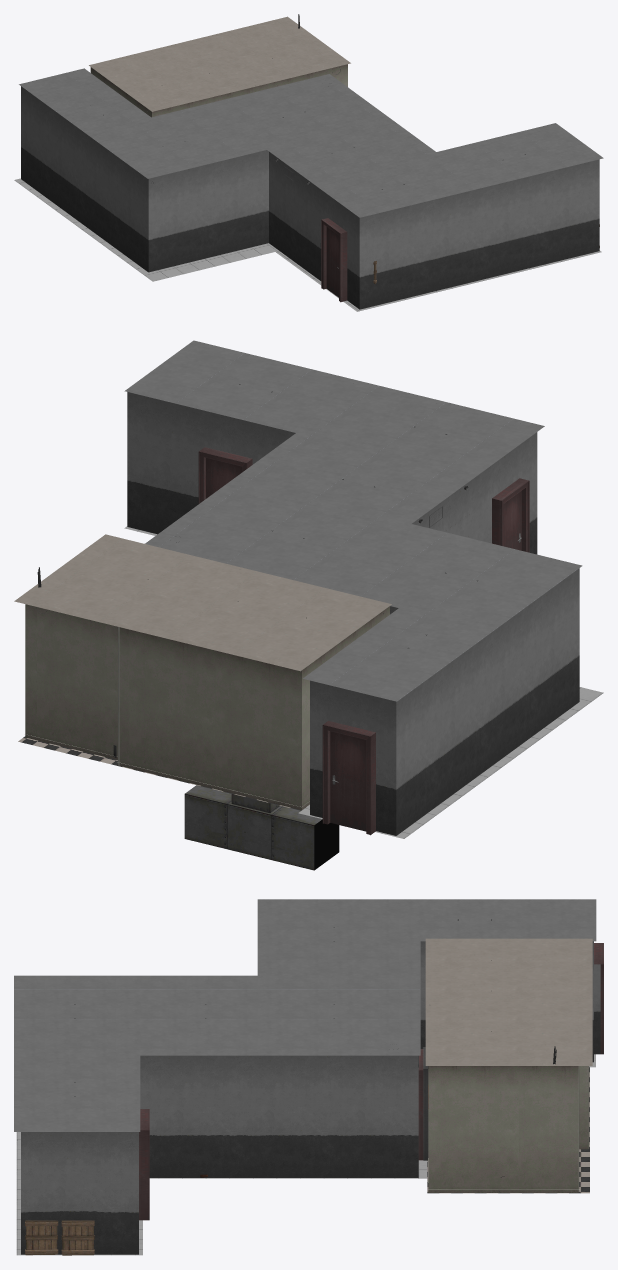
Rendered from opening.fbx.
The picture shows the model from 3 angles, top to bottom: view 1: azimuth 30°, elevation 25°; view 2: azimuth 150°, elevation 25°; view 3: azimuth 270°, elevation 25°; orthographic projection. The views are drawn at different scales.
Visible parts, largest first — view 1: IS4_P1_TechoAntesala, IS4_P1_Antesala_Pared_2, ControlRoom_Ceiling, IS4_P1_Antesala_Pared_5, IS4_P1_Antesala_Pared_4, IS4_P1_Antesala_Pared_3, IS4_P1_SueloAntesala, ControlRoom_Wall_1, P1_Puerta_Granate__1_, IS4_P1_PuertaControl_2, ControlRoom_Wall_4; view 2: IS4_P1_TechoAntesala, ControlRoom_Wall_3, ControlRoom_Ceiling, IS4_P1_Antesala_Pared_5, IS4_P1_Antesala_Pared_10, ControlRoom_Vent, IS4_P1_Antesala_Pared_6, IS4_P1_Antesala_Pared_3, IS4_P1_PuertaControl_1, P1_Puerta_Granate, IS4_P1_SueloAntesala, ControlRoom_Wall_4 (+5 smaller); view 3: IS4_P1_TechoAntesala, IS4_P1_Antesala_Pared_9, ControlRoom_Ceiling, ControlRoom_Wall_2, IS4_P1_Antesala_Pared_1, IS4_P1_SueloAntesala, P1_Puerta_Granate__2_, WoodCrate_4, WoodCrate_5, IS4_P1_Antesala_Pared_7, ControlRoom_Wall_3, ControlRoom_Floor (+4 smaller).
Boxes of the visible parts, bbox=[...] form: IS4_P1_TechoAntesala: bbox=[19, 68, 603, 217]; IS4_P1_Antesala_Pared_2: bbox=[359, 159, 599, 309]; ControlRoom_Ceiling: bbox=[89, 16, 350, 111]; IS4_P1_Antesala_Pared_5: bbox=[21, 86, 148, 272]; IS4_P1_Antesala_Pared_4: bbox=[148, 150, 268, 272]; IS4_P1_Antesala_Pared_3: bbox=[269, 151, 359, 309]; IS4_P1_SueloAntesala: bbox=[14, 178, 601, 311]; ControlRoom_Wall_1: bbox=[152, 64, 347, 116]; P1_Puerta_Granate__1_: bbox=[321, 218, 347, 302]; IS4_P1_PuertaControl_2: bbox=[326, 227, 338, 297]; ControlRoom_Wall_4: bbox=[90, 67, 151, 117]; IS4_P1_TechoAntesala: bbox=[124, 340, 582, 701]; ControlRoom_Wall_3: bbox=[25, 604, 301, 810]; ControlRoom_Ceiling: bbox=[14, 534, 391, 671]; IS4_P1_Antesala_Pared_5: bbox=[396, 568, 579, 835]; IS4_P1_Antesala_Pared_10: bbox=[127, 392, 295, 534]; ControlRoom_Vent: bbox=[184, 785, 339, 870]; IS4_P1_Antesala_Pared_6: bbox=[310, 680, 396, 835]; IS4_P1_Antesala_Pared_3: bbox=[412, 432, 537, 554]; IS4_P1_PuertaControl_1: bbox=[330, 731, 366, 831]; P1_Puerta_Granate: bbox=[322, 721, 375, 835]; IS4_P1_SueloAntesala: bbox=[124, 526, 603, 838]; ControlRoom_Wall_4: bbox=[302, 606, 389, 809]; IS4_P1_TechoAntesala: bbox=[14, 899, 596, 1131]; IS4_P1_Antesala_Pared_9: bbox=[140, 1055, 418, 1177]; ControlRoom_Ceiling: bbox=[425, 938, 592, 1065]; ControlRoom_Wall_2: bbox=[428, 1066, 578, 1192]; IS4_P1_Antesala_Pared_1: bbox=[21, 1132, 138, 1254]; IS4_P1_SueloAntesala: bbox=[16, 1054, 595, 1255]; P1_Puerta_Granate__2_: bbox=[139, 1109, 149, 1220]; WoodCrate_4: bbox=[61, 1220, 94, 1255]; WoodCrate_5: bbox=[25, 1220, 58, 1255]; IS4_P1_Antesala_Pared_7: bbox=[420, 941, 593, 1062]; ControlRoom_Wall_3: bbox=[579, 1066, 588, 1149]; ControlRoom_Floor: bbox=[427, 1067, 589, 1193].
Size of the model in its own units: 1228 by 485 by 1298.
10 materials, 10 textured.
